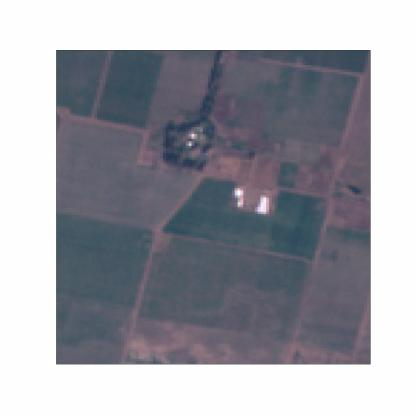silobolsa: (256, 194, 268, 212)
